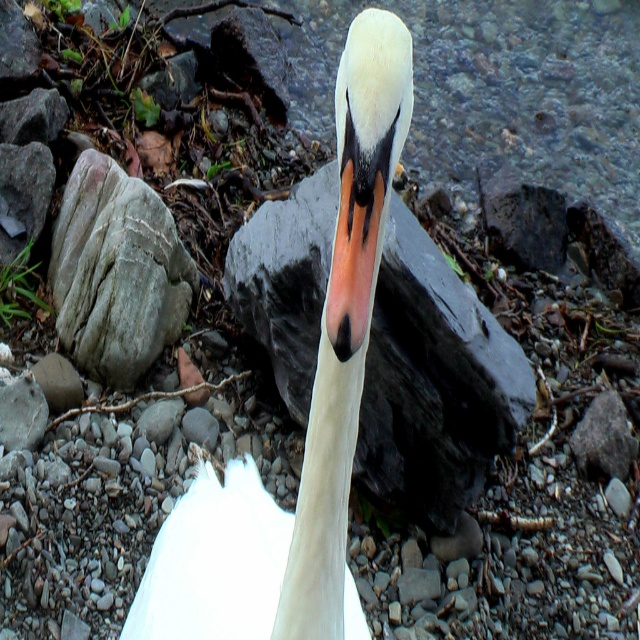Goose: (122, 6, 415, 639)
